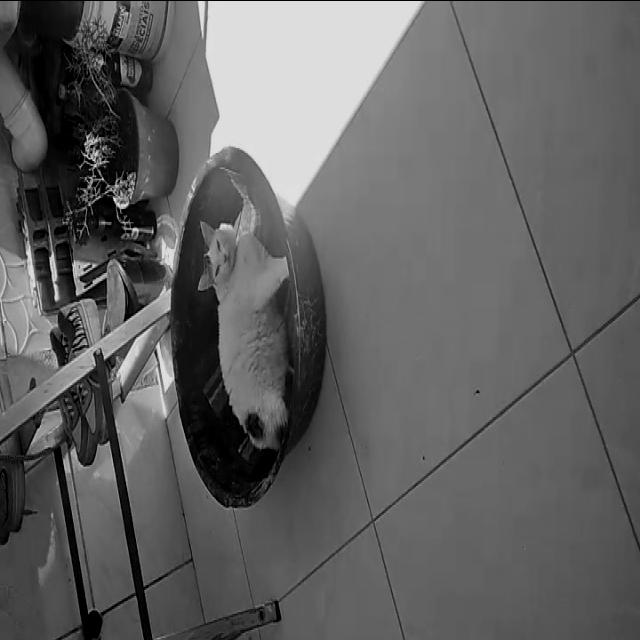Simba: (181, 198, 283, 502)
